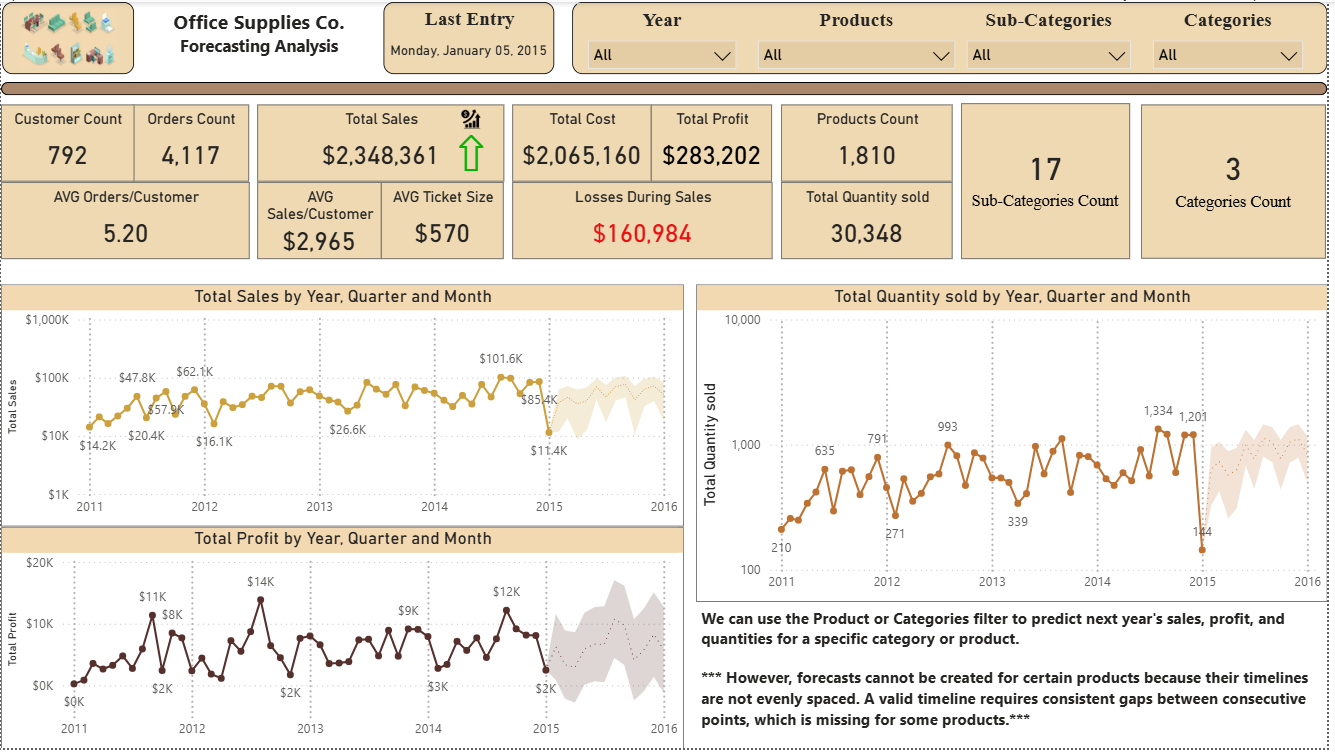

The dashboard page shown, as its layout file describes it:
{"tool":"powerbi","page":{"name":"12. Forecasting (Bonus)","canvas":[1280,720],"ordinal":12},"visuals":[{"type":"card","title":"Last Entry","fields":{"Values":["Max(Dim_Date.Dim_Date)"]},"box":[369.6,0,165.1,69.9],"z":0},{"type":"shape","box":[551.2,0,729,69.9],"z":1000},{"type":"slicer","title":"Year","fields":{"Values":["Dim_Date.Dim_Date.Variation.Date Hierarchy.Year"]},"box":[556.3,1.3,163.8,66],"z":2000},{"type":"slicer","title":"Categories","fields":{"Values":["Dim_Category.Category"]},"box":[1101.2,1.3,165.1,66],"z":3000},{"type":"slicer","title":"Products","fields":{"Values":["Dim_Product.Product Name"]},"box":[720.1,1.3,210.8,66],"z":4000},{"type":"image","box":[1.3,0,127,69.9],"z":5000},{"type":"textbox","box":[137.2,0,223.5,68.6],"z":6000},{"type":"card","title":"Total Sales","fields":{"Values":["_Key Measure.Total Sales"]},"box":[247.1,99,238.6,74.3],"z":7000},{"type":"card","title":"Total Profit","fields":{"Values":["_Key Measure.Total Profit"]},"box":[627.1,99,117.1,74.3],"z":8000},{"type":"card","title":"Total Cost","fields":{"Values":["_Key Measure.Total Cost"]},"box":[492.9,99,134.3,74.3],"z":9000},{"type":"card","title":"Orders Count","fields":{"Values":["_Key Measure.Orders Count"]},"box":[127.1,99,112.9,74.3],"z":10000},{"type":"card","title":"Customer Count","fields":{"Values":["_Key Measure.Customer Count"]},"box":[0,99,128.6,74.3],"z":11000},{"type":"card","title":"Products Count","fields":{"Values":["_Key Measure.Products Count"]},"box":[752.9,99,165.7,74.3],"z":12000},{"type":"slicer","title":"Sub-Categories","fields":{"Values":["Dim_Sub-Category.Sub-Category"]},"box":[922.1,1.3,179.1,67.3],"z":13000},{"type":"card","fields":{"Values":["_Key Measure.Categories Count"]},"box":[1100,99,178.6,148.6],"z":14000},{"type":"card","fields":{"Values":["_Key Measure.Sub-Categories Count"]},"box":[927.1,97.6,162.9,150],"z":15000},{"type":"shape","box":[0,77.1,1280,12.9],"z":16000},{"type":"card","title":"AVG Orders/Customer","fields":{"Values":["_Key Measure.AVG Order/Customer"]},"box":[0,173.3,240,74.3],"z":17000},{"type":"card","title":"AVG Ticket Size","fields":{"Values":["_Key Measure.AVG Ticket Size"]},"box":[367.1,173.3,118.6,74.3],"z":18000},{"type":"card","title":"AVG Sales/Customer","fields":{"Values":["_Key Measure.AVG Sales/Customer"]},"box":[247.1,173.3,120,74.3],"z":19000},{"type":"card","title":"Losses During Sales","fields":{"Values":["_Key Measure.Lost Profit"]},"box":[492.9,173.3,251.4,74.3],"z":20000},{"type":"card","title":"Total Quantity sold","fields":{"Values":["_Key Measure.Total Quantity sold"]},"box":[752.9,173.3,165.7,74.3],"z":21000},{"type":"card","fields":{"Values":["_Key Measure.Sales Arrow"]},"box":[427.1,111.4,54.3,61.4],"z":22000},{"type":"image","box":[425.7,98.6,55.7,28.6],"z":23000},{"type":"lineChart","fields":{"Category":["Dim_Date.Dim_Date.Variation.Date Hierarchy.Year","Dim_Date.Dim_Date.Variation.Date Hierarchy.Quarter","Dim_Date.Dim_Date.Variation.Date Hierarchy.Month","Dim_Date.Dim_Date.Variation.Date Hierarchy.Day"],"Y":["_Key Measure.Total Sales"]},"box":[0,272.8,659.1,233.6],"z":24000},{"type":"lineChart","fields":{"Y":["_Key Measure.Total Profit"],"Category":["Dim_Date.Dim_Date.Variation.Date Hierarchy.Year","Dim_Date.Dim_Date.Variation.Date Hierarchy.Quarter","Dim_Date.Dim_Date.Variation.Date Hierarchy.Month","Dim_Date.Dim_Date.Variation.Date Hierarchy.Day"]},"box":[0,506.4,659.1,214],"z":25000},{"type":"lineChart","fields":{"Category":["Dim_Date.Dim_Date.Variation.Date Hierarchy.Year","Dim_Date.Dim_Date.Variation.Date Hierarchy.Quarter","Dim_Date.Dim_Date.Variation.Date Hierarchy.Month","Dim_Date.Dim_Date.Variation.Date Hierarchy.Day"],"Y":["_Key Measure.Total Quantity sold"]},"box":[670.8,272.8,609.5,306.7],"z":26000},{"type":"textbox","box":[670.8,579.4,609.5,140.9],"z":27000}]}

Visuals, with their boxes in screenshot pixels (x1, y1, x2, y2), scaled from the page's 1280x720 canvas onto the 1335x752 screenshot:
"Last Entry" card: bbox=(385, 0, 558, 73)
shape: bbox=(575, 0, 1334, 73)
"Year" slicer: bbox=(580, 1, 751, 70)
"Categories" slicer: bbox=(1149, 1, 1321, 70)
"Products" slicer: bbox=(751, 1, 971, 70)
image: bbox=(1, 0, 134, 73)
textbox: bbox=(143, 0, 376, 72)
"Total Sales" card: bbox=(258, 103, 507, 181)
"Total Profit" card: bbox=(654, 103, 776, 181)
"Total Cost" card: bbox=(514, 103, 654, 181)
"Orders Count" card: bbox=(133, 103, 250, 181)
"Customer Count" card: bbox=(0, 103, 134, 181)
"Products Count" card: bbox=(785, 103, 958, 181)
"Sub-Categories" slicer: bbox=(962, 1, 1149, 72)
card - _Key Measure.Categories Count: bbox=(1147, 103, 1334, 259)
card - _Key Measure.Sub-Categories Count: bbox=(967, 102, 1137, 259)
shape: bbox=(0, 81, 1334, 94)
"AVG Orders/Customer" card: bbox=(0, 181, 250, 259)
"AVG Ticket Size" card: bbox=(383, 181, 507, 259)
"AVG Sales/Customer" card: bbox=(258, 181, 383, 259)
"Losses During Sales" card: bbox=(514, 181, 776, 259)
"Total Quantity sold" card: bbox=(785, 181, 958, 259)
card - _Key Measure.Sales Arrow: bbox=(445, 116, 502, 180)
image: bbox=(444, 103, 502, 133)
lineChart - Dim_Date.Dim_Date.Variation.Date Hierarchy.Year x Dim_Date.Dim_Date.Variation.Date Hierarchy.Quarter: bbox=(0, 285, 687, 529)
lineChart - _Key Measure.Total Profit x Dim_Date.Dim_Date.Variation.Date Hierarchy.Year: bbox=(0, 529, 687, 751)
lineChart - Dim_Date.Dim_Date.Variation.Date Hierarchy.Year x Dim_Date.Dim_Date.Variation.Date Hierarchy.Quarter: bbox=(700, 285, 1334, 605)
textbox: bbox=(700, 605, 1334, 751)
